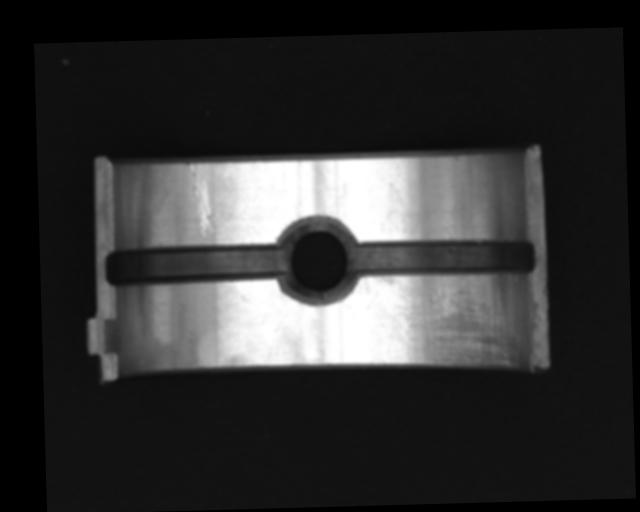gap: (350, 235, 534, 279), (104, 242, 284, 286)
hole: (275, 218, 360, 305)
nick: (188, 161, 215, 237)
scratch: (380, 272, 524, 376)
